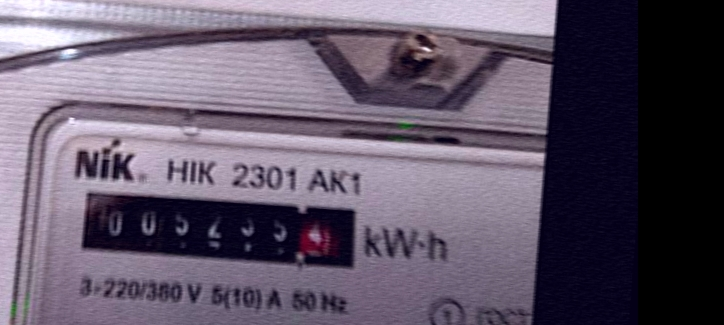0: (137, 207, 160, 242), (105, 209, 125, 241)
2: (203, 209, 227, 245)
3: (235, 210, 262, 245)
4: (304, 215, 329, 253)
5: (269, 212, 294, 249), (171, 208, 193, 242)
screen: (64, 177, 372, 287)
